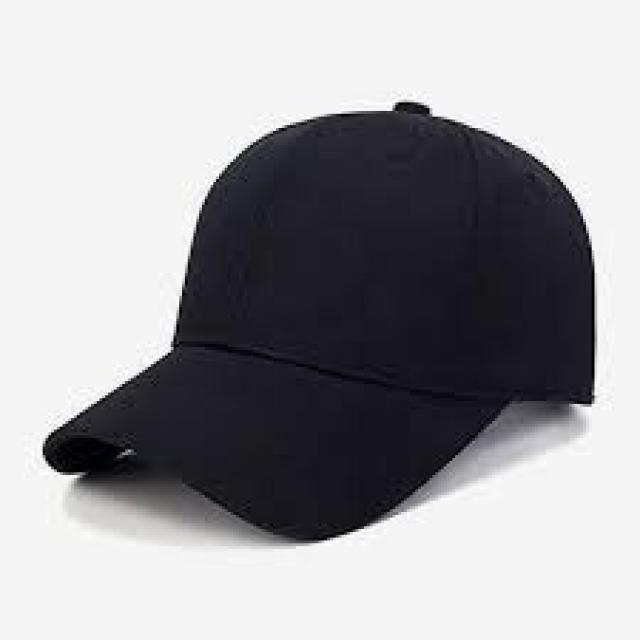suspicious-objects: (46, 105, 597, 540)
